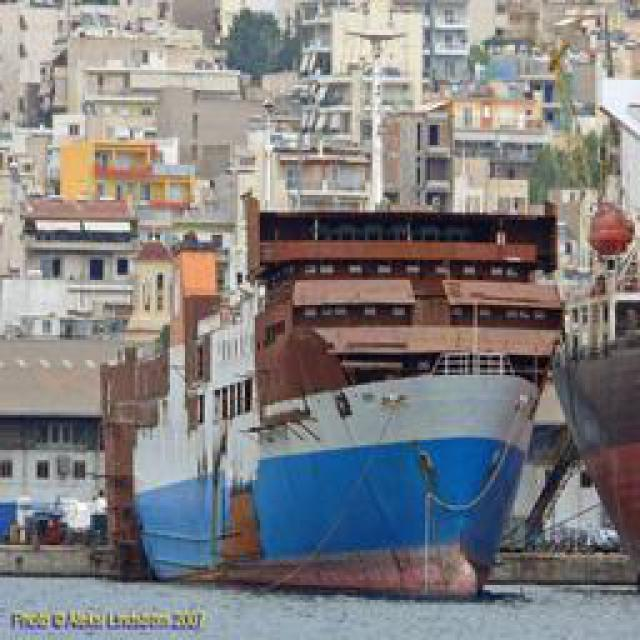Ship: (97, 256, 532, 609)
